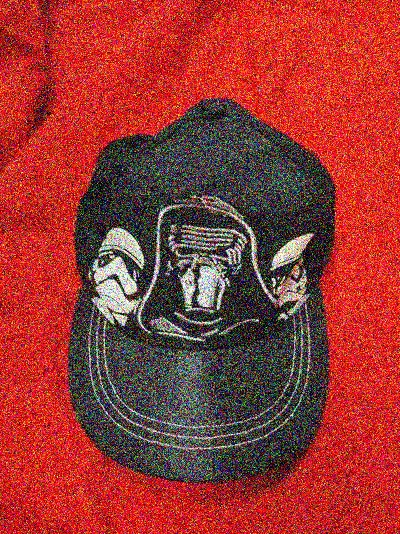Hat: (51, 77, 362, 481)
